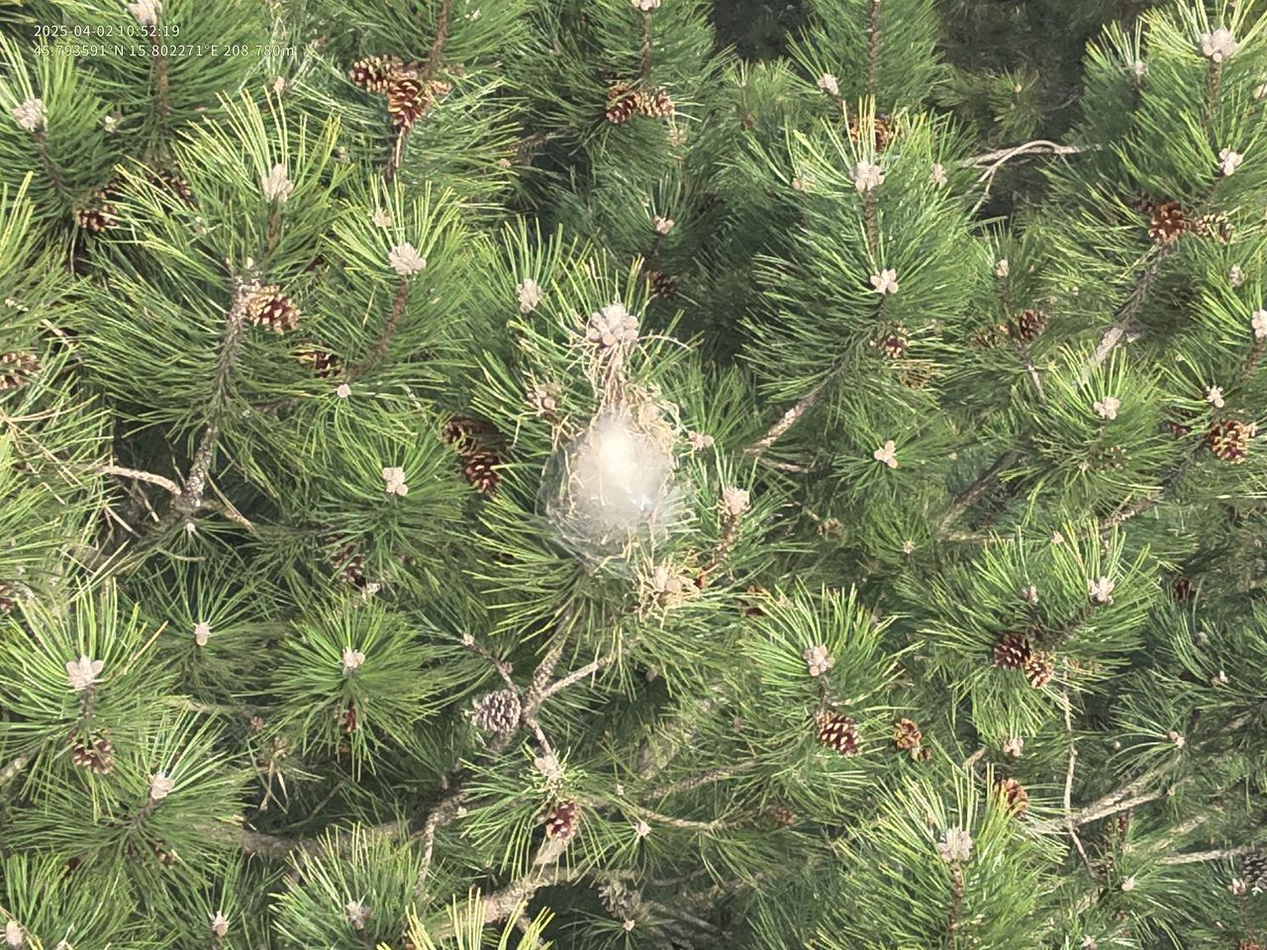thaumatopoea pityocampa jajno gnijezdo: (527, 375, 707, 570)
